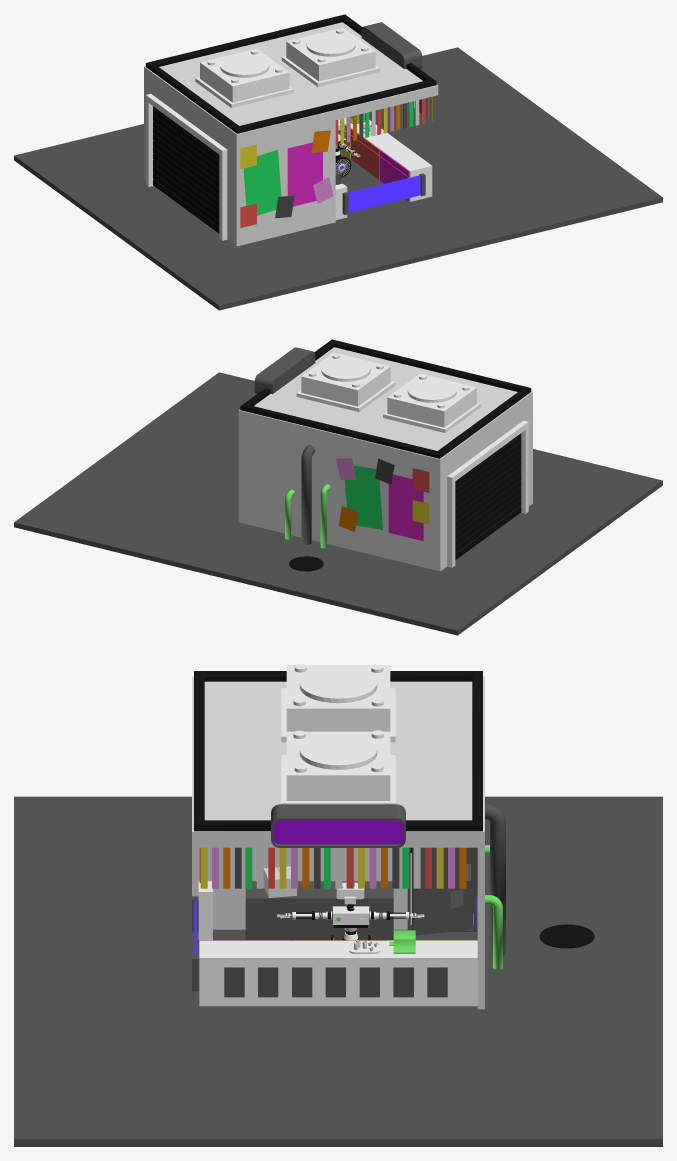
3 renders of one model, top to bottom at view 1: azimuth 30°, elevation 25°; view 2: azimuth 150°, elevation 25°; view 3: azimuth 270°, elevation 25°, orthographic. The views are drawn at different scales.
Parts seen in each view (by area): view 1: Cube, Cube014_1, Cube019_1, Cube044_1, Cube014_2, Cube010, Plane013_1, Plane013_2, Cube003, Cube019_2, Cube010_1, Cube015_2 (+1 smaller); view 2: Cube, Cube014_1, Cube019_1, Cube044_1, Cube014_2, Cube010, Plane003_1, Plane003_2, Cube019_2, Plane003_8, Plane003_7, Plane003_9; view 3: Cube, Cube014_1, Cube019_1, Cube003, Cube014_2, Cube006, TEXT, porte001, Cube019_3, Cube019_2, Plane003_8, Cube053 (+11 smaller).
Part boxes in pixels (x1,y1,x2,y2): Cube: (14,47,662,310); Cube014_1: (144,22,438,246); Cube019_1: (195,27,380,107); Cube044_1: (153,106,219,233); Cube014_2: (145,14,436,133); Cube010: (145,93,227,240); Plane013_1: (243,149,281,215); Plane013_2: (287,142,322,206); Cube003: (339,117,432,201); Cube019_2: (361,22,422,69); Cube010_1: (348,175,420,212); Cube015_2: (350,129,380,179); Cube: (14,372,662,635); Cube014_1: (238,347,532,571); Cube019_1: (296,352,481,432); Cube044_1: (455,433,521,560); Cube014_2: (240,339,531,458); Cube010: (447,420,528,567); Plane003_1: (345,465,382,529); Plane003_2: (388,474,423,541); Cube019_2: (254,347,315,394); Plane003_8: (301,445,314,544); Plane003_7: (285,484,330,548); Plane003_9: (289,556,323,571); Cube: (14,796,662,1146); Cube014_1: (192,676,484,1009); Cube019_1: (281,664,395,804); Cube003: (199,940,477,1006); Cube014_2: (194,671,482,831); Cube006: (245,881,393,940); TEXT: (224,967,447,997); porte001: (411,847,473,935); Cube019_3: (273,820,403,844); Cube019_2: (271,804,405,847); Plane003_8: (485,803,505,955); Cube053: (277,882,424,940).
Size of the model in its own units: 15.63 by 4.7 by 12.51.
